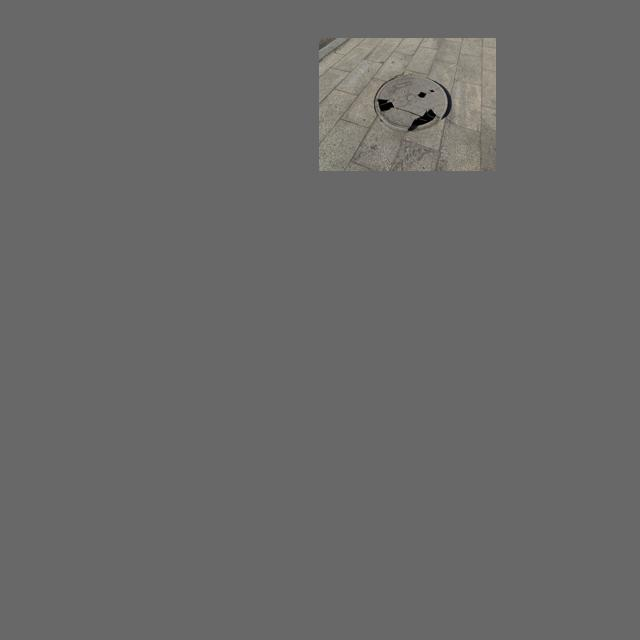broke: (372, 70, 455, 132)
